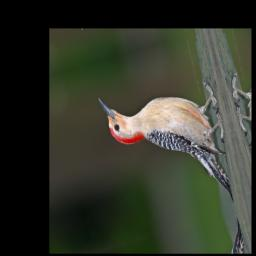Woodpecker: (95, 61, 243, 234)
